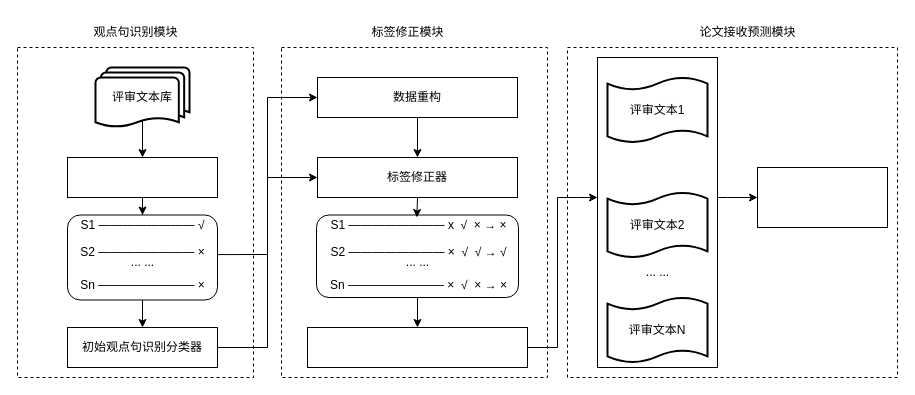
Image size: 915x395. Some labels were removed from this diagram. The centre of each missing label's shape, as x and y in pixels:
优化后的观点句识别分类器: pixel 417 347
数据预处理: pixel 142 177
论文接收预测模型: pixel 822 197
